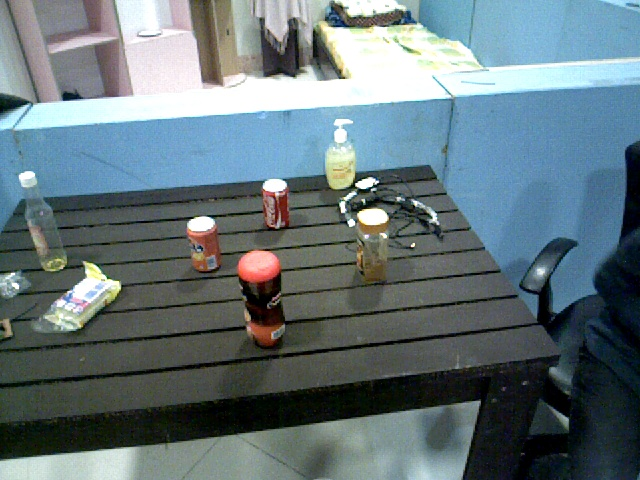coca: (262, 178, 293, 231)
coffee: (355, 208, 394, 286)
cream: (236, 247, 290, 352)
fanta: (186, 215, 222, 275)
